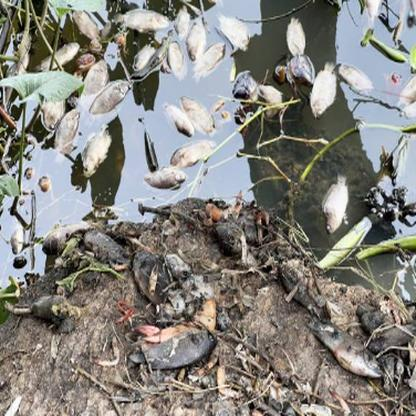deceased fish: (307, 61, 338, 122), (320, 174, 350, 233), (80, 123, 110, 180), (114, 5, 171, 31), (138, 165, 186, 190), (186, 22, 207, 62), (168, 42, 183, 75)
